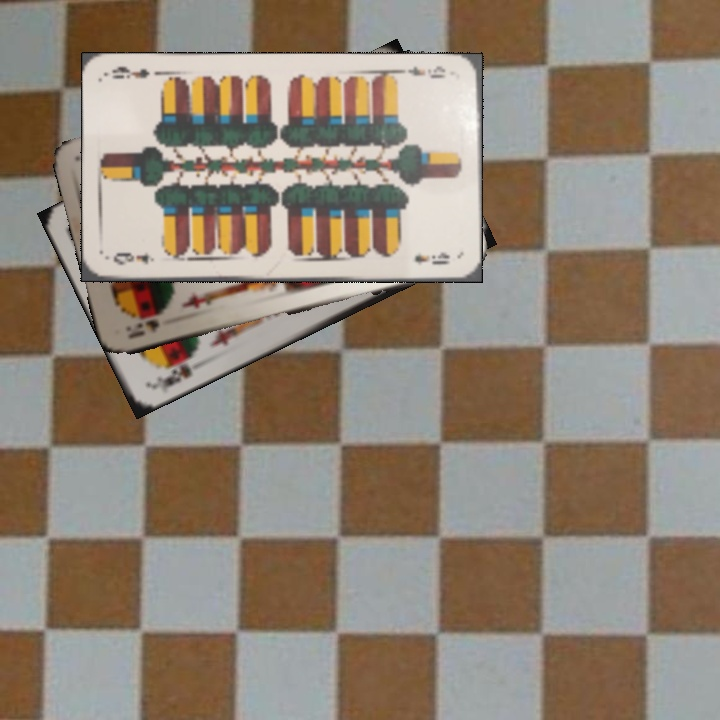E9: (397, 61, 449, 81), (109, 249, 156, 268)
SK: (148, 351, 199, 390), (121, 315, 162, 341)
